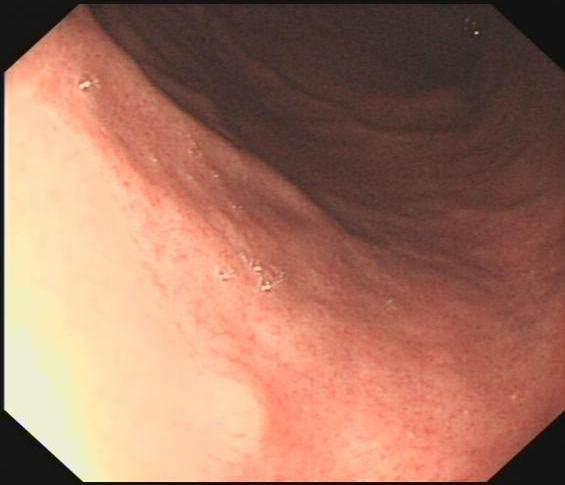Polyp: (173, 366, 278, 462)
